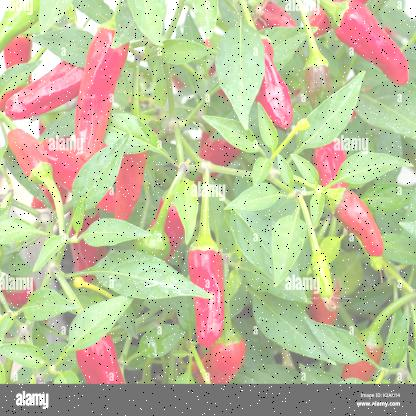chili: (72, 23, 136, 163), (326, 1, 406, 93), (184, 240, 234, 348), (334, 176, 387, 258)
